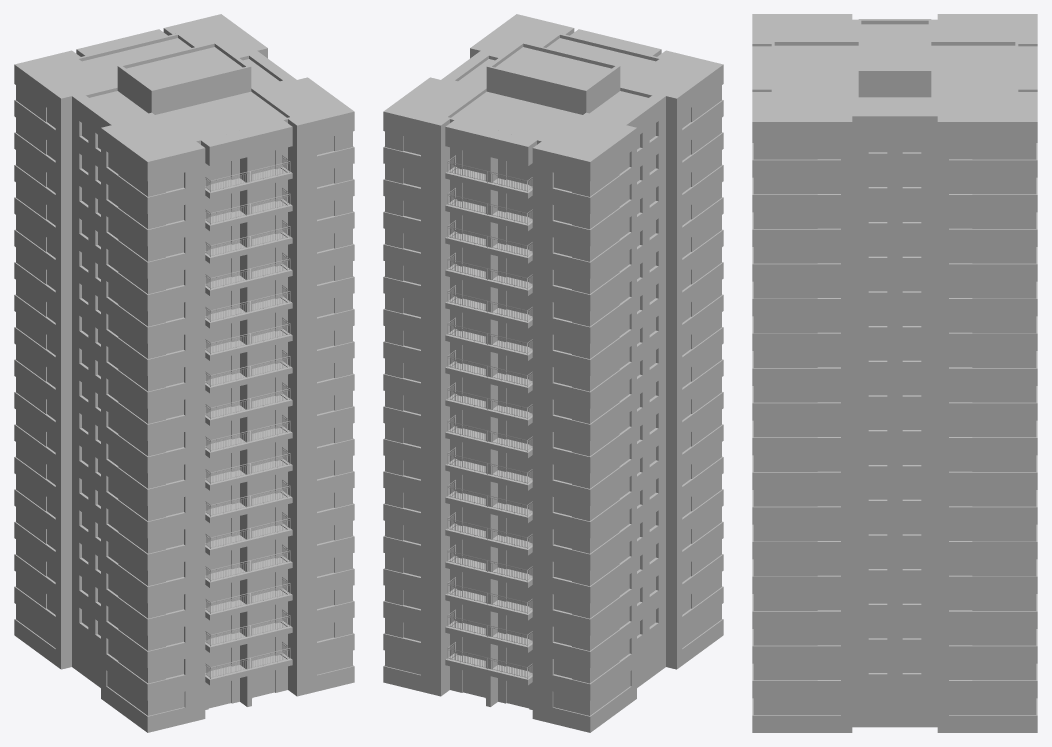
The model's file is RES-01.fbx.
The picture shows the model from 3 angles, left to right: view 1: azimuth 30°, elevation 25°; view 2: azimuth 150°, elevation 25°; view 3: azimuth 270°, elevation 25°; orthographic projection. The views are drawn at different scales.
Visible parts, largest first — view 1: Building; view 2: Building; view 3: Building.
Boxes of the visible parts, x1=… form: Building: x1=14, y1=14, x2=354, y2=732; Building: x1=383, y1=14, x2=723, y2=732; Building: x1=752, y1=14, x2=1037, y2=732.
Size of what is drawn, in the model's own units: 20.02 by 54.8 by 22.36.
